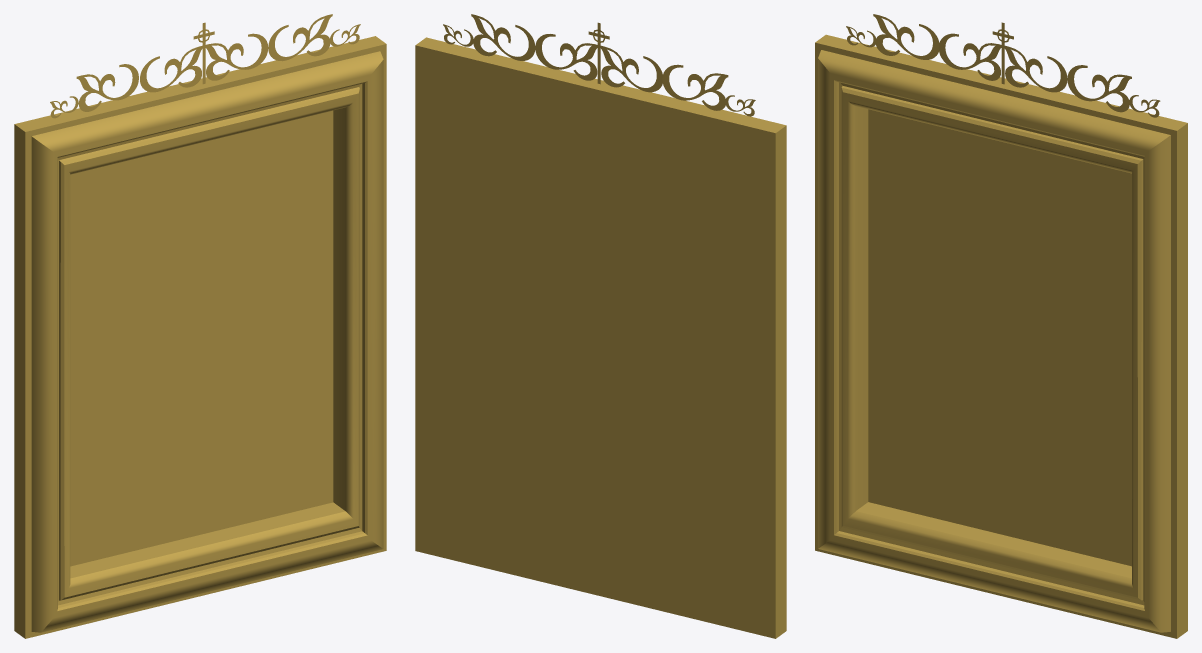
The model's file is picture frame.fbx.
3 renders of one model, left to right at view 1: azimuth 30°, elevation 25°; view 2: azimuth 150°, elevation 25°; view 3: azimuth 330°, elevation 25°, orthographic.
Visible parts, largest first — view 1: group3_typeMesh4; view 2: group3_typeMesh4; view 3: group3_typeMesh4.
Boxes of the visible parts, box(x1,y1,x2,y2) form: group3_typeMesh4: box(14, 14, 386, 638); group3_typeMesh4: box(415, 14, 786, 638); group3_typeMesh4: box(815, 14, 1187, 638).
Size of the model in its own units: 108 by 162 by 9.02.
